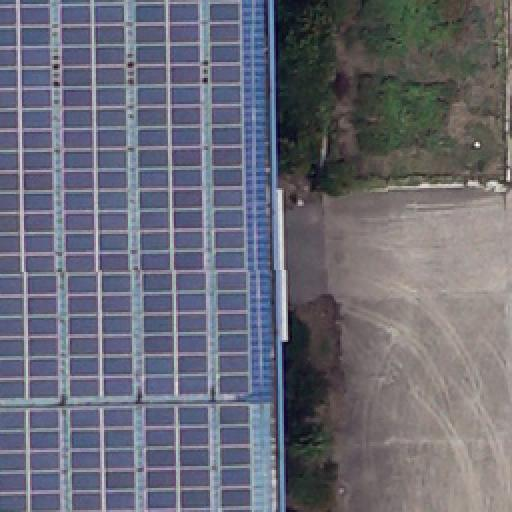solar-panel: (0, 0, 254, 512)
